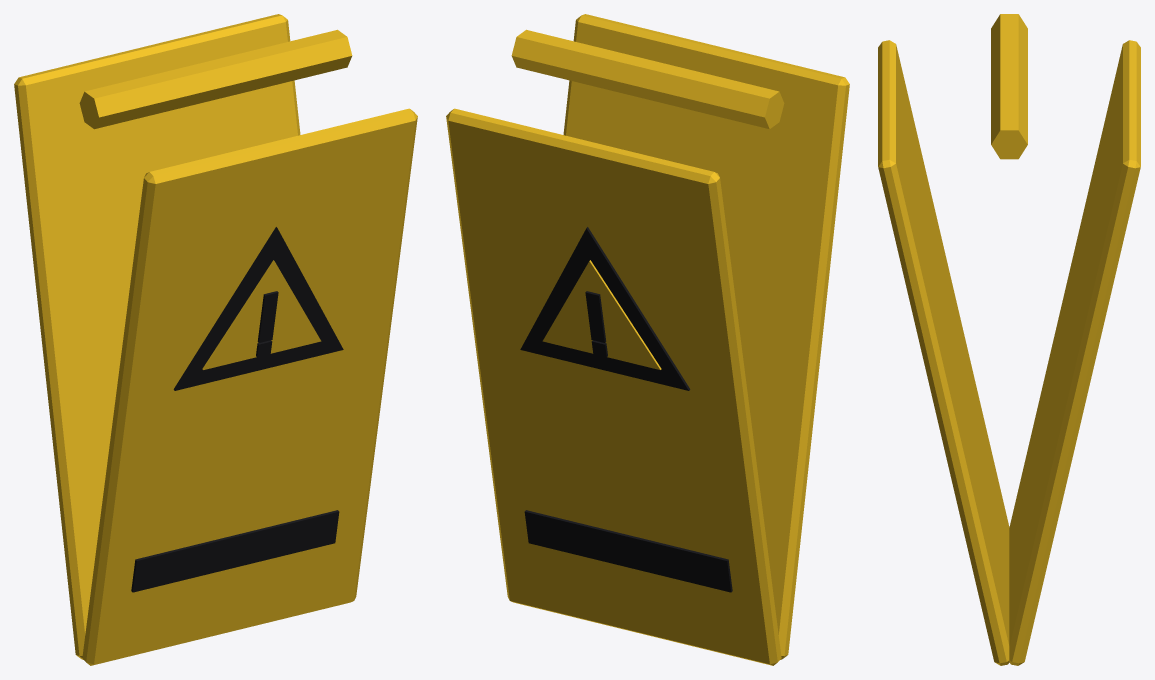
File: Sign_Caution.fbx
3 views of the same model, side by side, from view 1: azimuth 30°, elevation 25°; view 2: azimuth 150°, elevation 25°; view 3: azimuth 270°, elevation 25° (orthographic). The views are drawn at different scales.
Visible parts, largest first — view 1: Sign_Caution; view 2: Sign_Caution; view 3: Sign_Caution.
Part boxes in pixels (bbox=[...]): Sign_Caution: bbox=[14, 14, 417, 665]; Sign_Caution: bbox=[446, 14, 849, 665]; Sign_Caution: bbox=[878, 14, 1140, 665].
Size of the model in its own units: 0.32 by 0.6414 by 0.286.
Materials: 1 (1 with a texture image).
